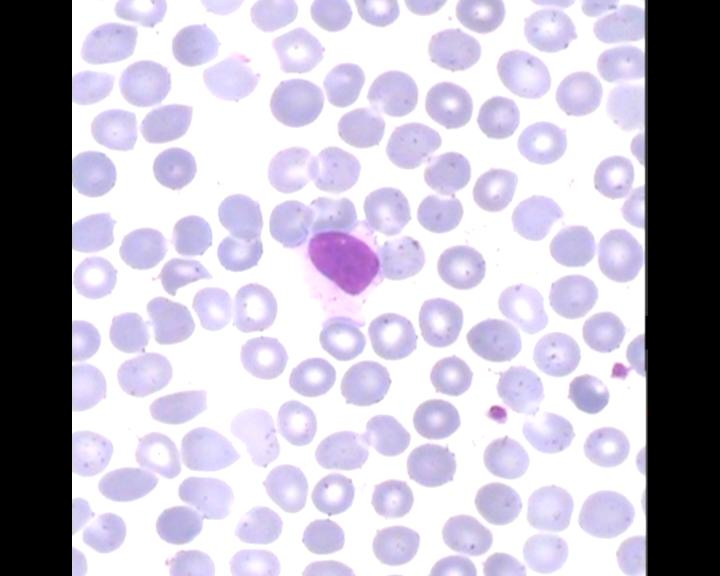mono: (295, 217, 389, 329)
